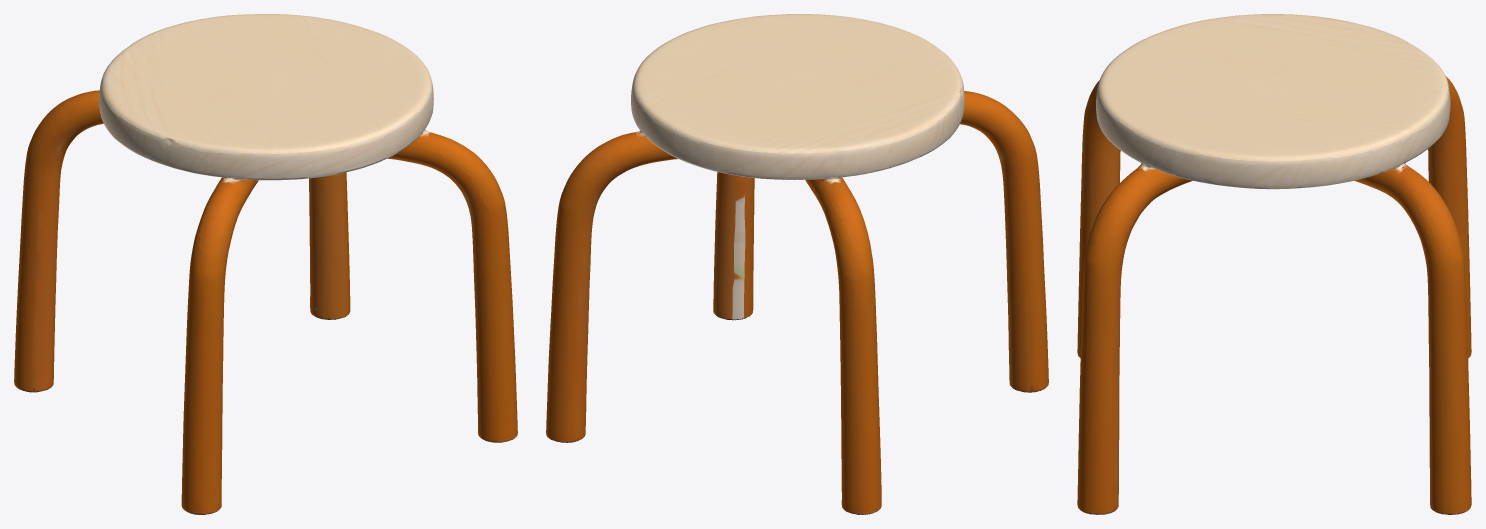
Rendered from stool__stool#5.glb.
3 views of the same model, side by side, from view 1: azimuth 30°, elevation 25°; view 2: azimuth 150°, elevation 25°; view 3: azimuth 270°, elevation 25° (orthographic). The views are drawn at different scales.
Visible parts, largest first — view 1: tmpnjy66k5k.ply; view 2: tmpnjy66k5k.ply; view 3: tmpnjy66k5k.ply.
Boxes of the visible parts, left/top/right/bottom form: tmpnjy66k5k.ply: left=14, top=14, right=517, bottom=514; tmpnjy66k5k.ply: left=546, top=14, right=1048, bottom=514; tmpnjy66k5k.ply: left=1077, top=14, right=1471, bottom=514.
Bounding box in the file's own units: 1.82 × 1.73 × 1.79.
Materials: 1 (1 with a texture image).
